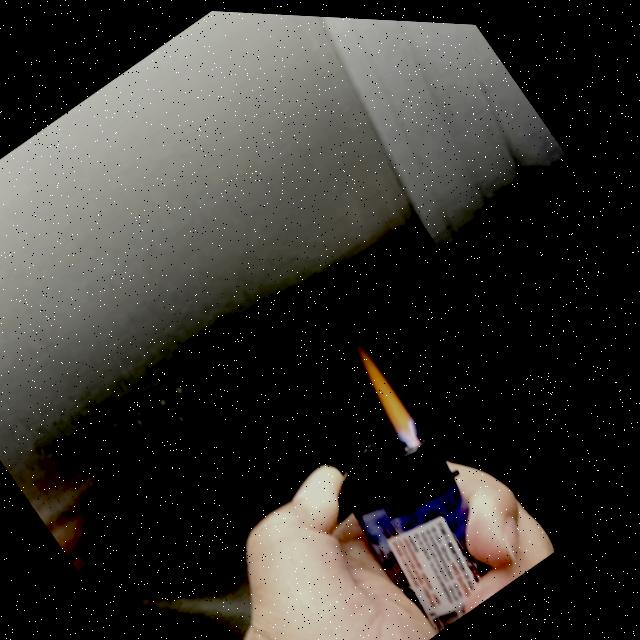Fire: (334, 329, 437, 447)
